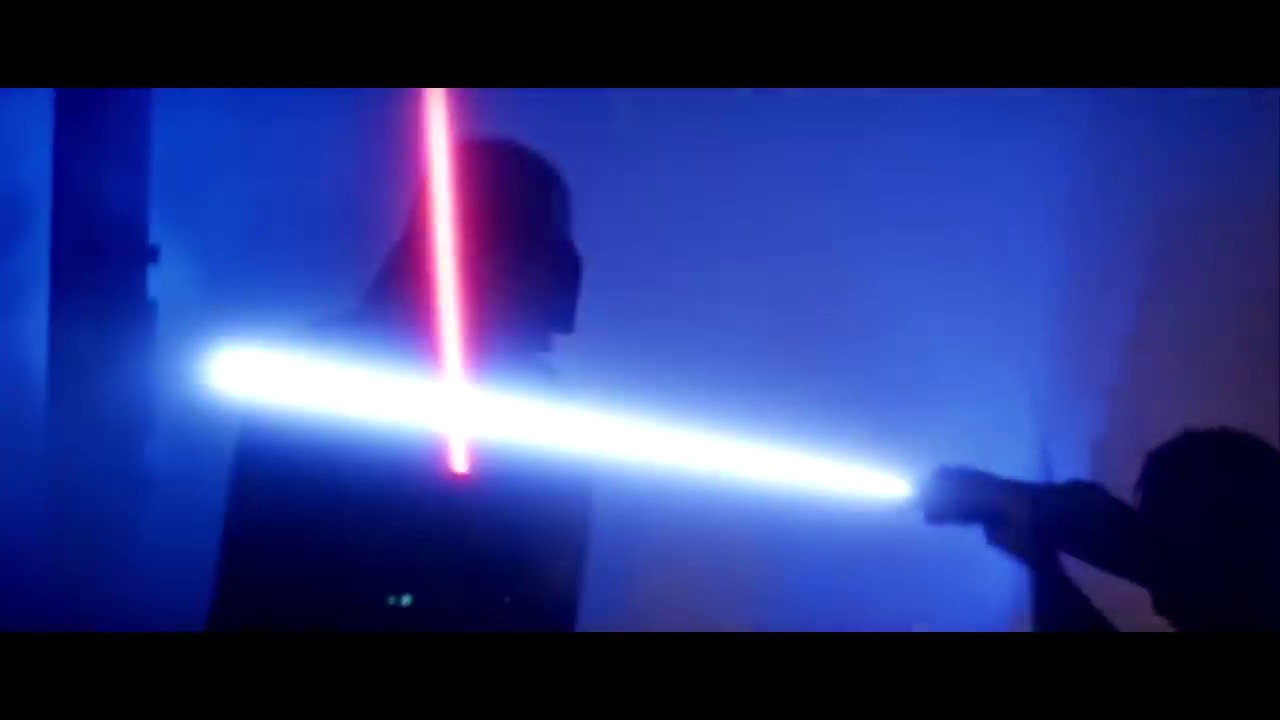lightsaber: (195, 326, 948, 540), (390, 84, 500, 525)
